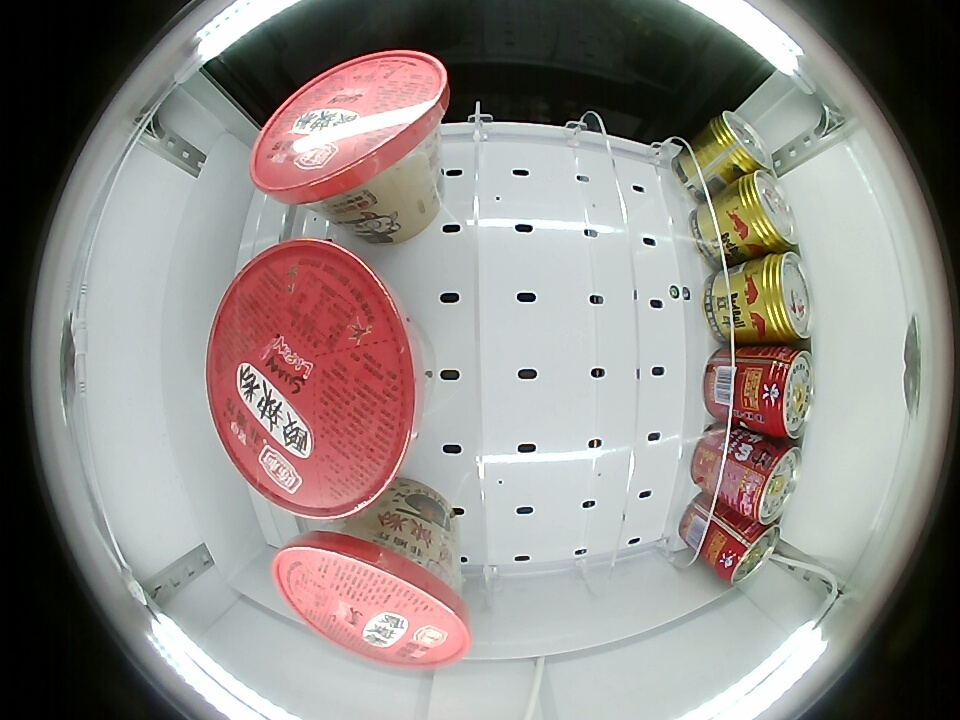hongniu2: (750, 252, 813, 343), (729, 171, 798, 252), (707, 110, 772, 172)
suanlafen: (207, 240, 418, 519), (251, 50, 449, 219), (274, 521, 470, 668)
wangzainiunai: (739, 347, 815, 439), (726, 439, 803, 525), (708, 519, 781, 582)
